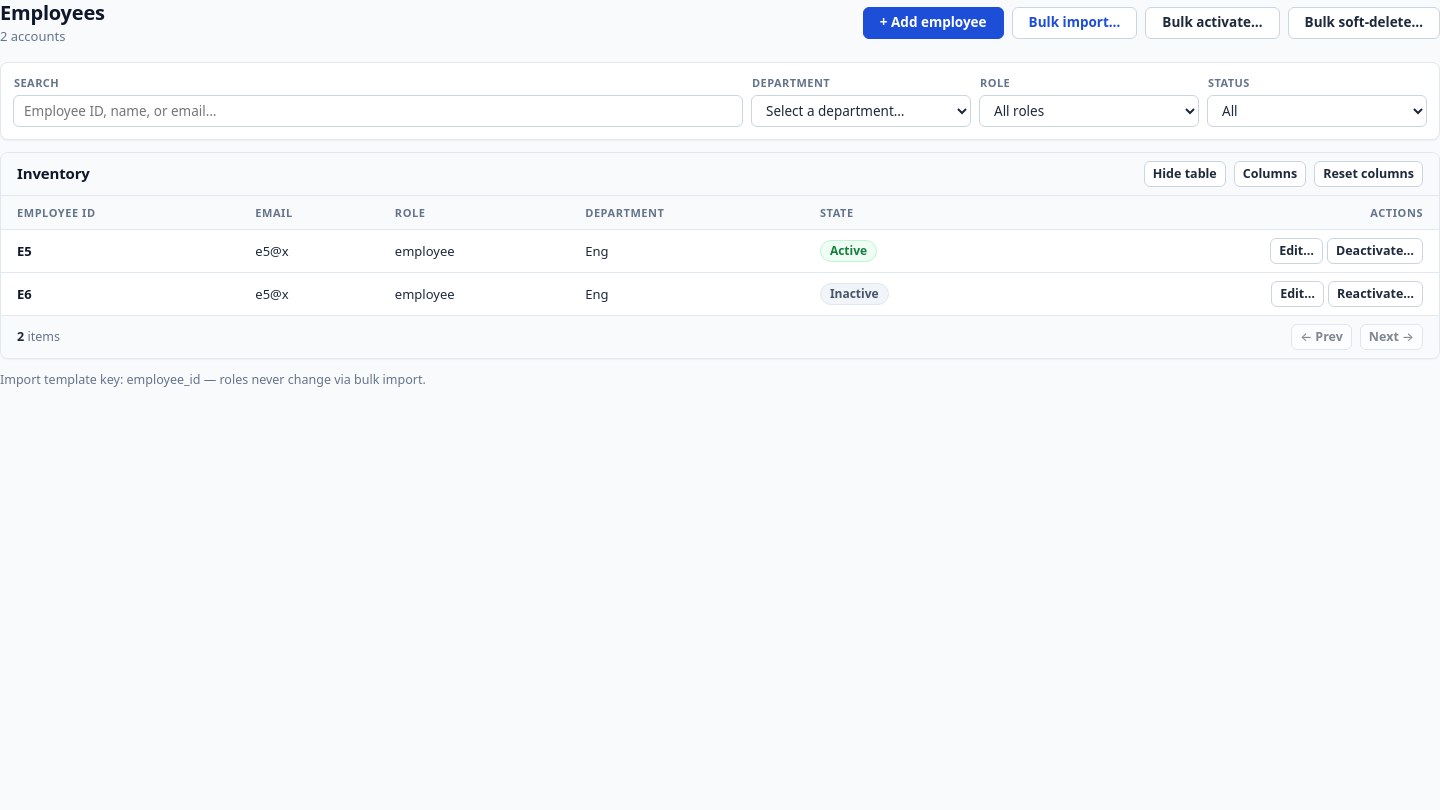
Test: Users row actions › deactivates an active user after confirmation
This screenshot has width=1440, height=810.
Expected: the link "E5" is shown, [17,242,32,260]
Click the button "Deactivate…": point(1375, 251) [1327,238,1423,264]
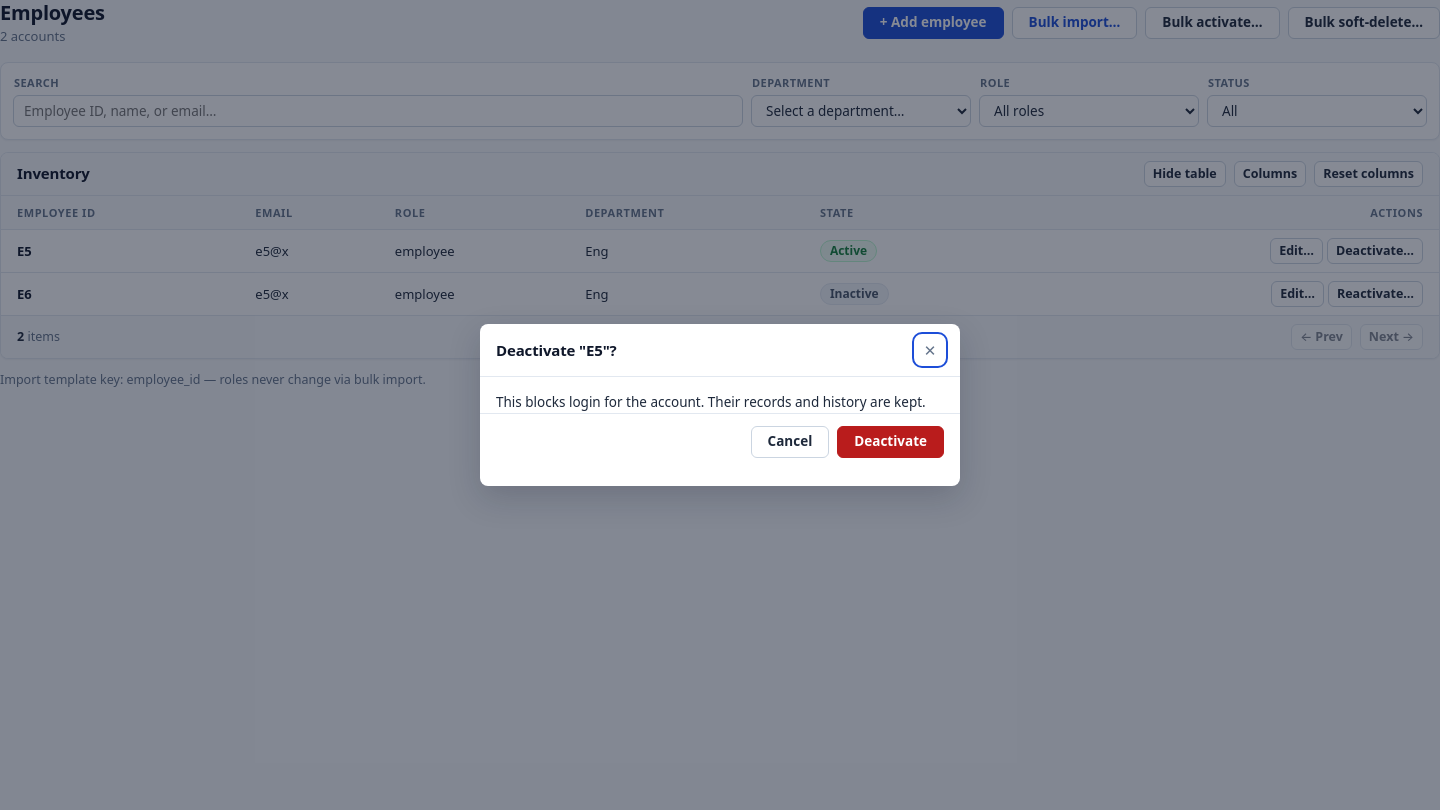
Click the button "Deactivate": point(891, 442) [837,426,944,458]
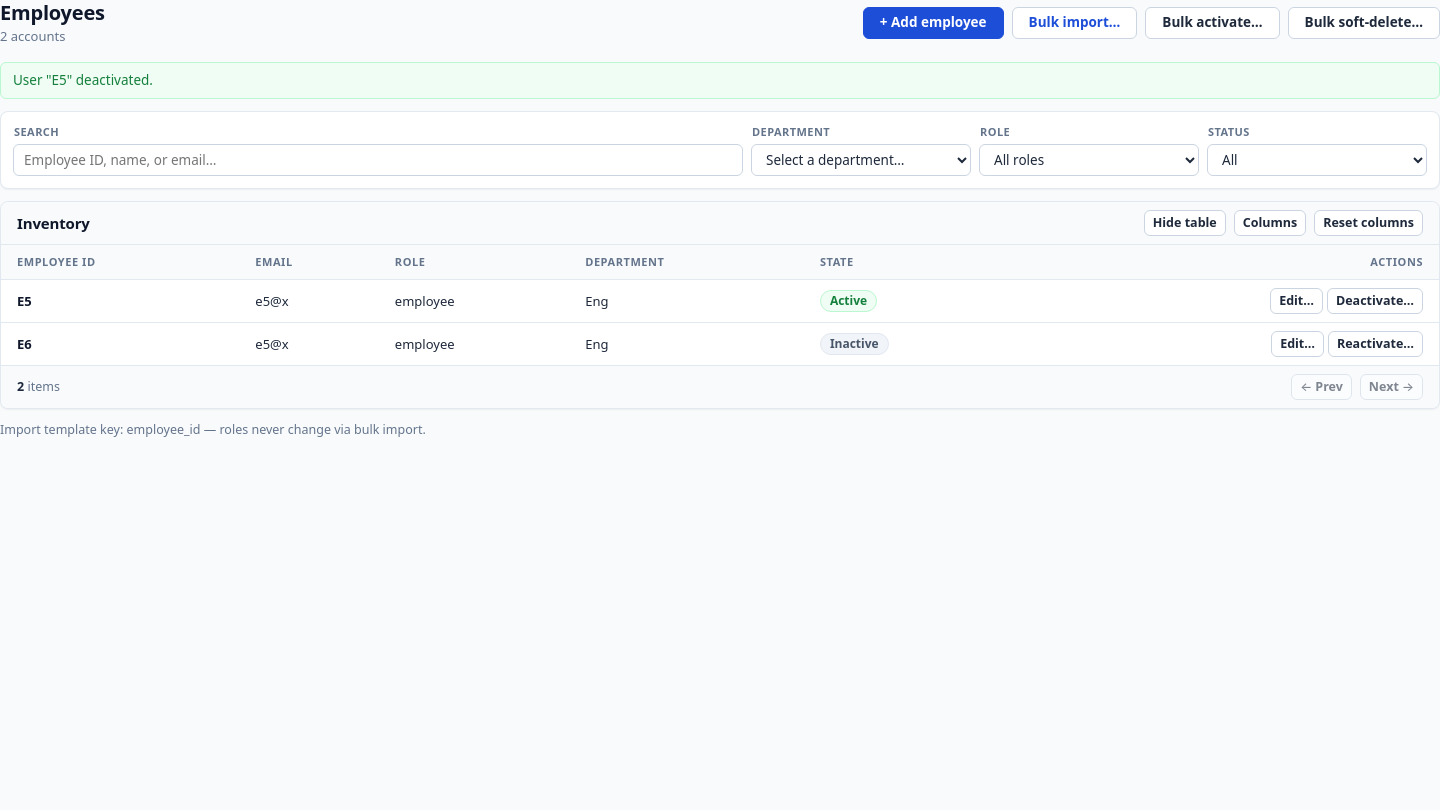
Now the text "User \"E5\" deactivated." is shown, box [0,62,1439,99]
